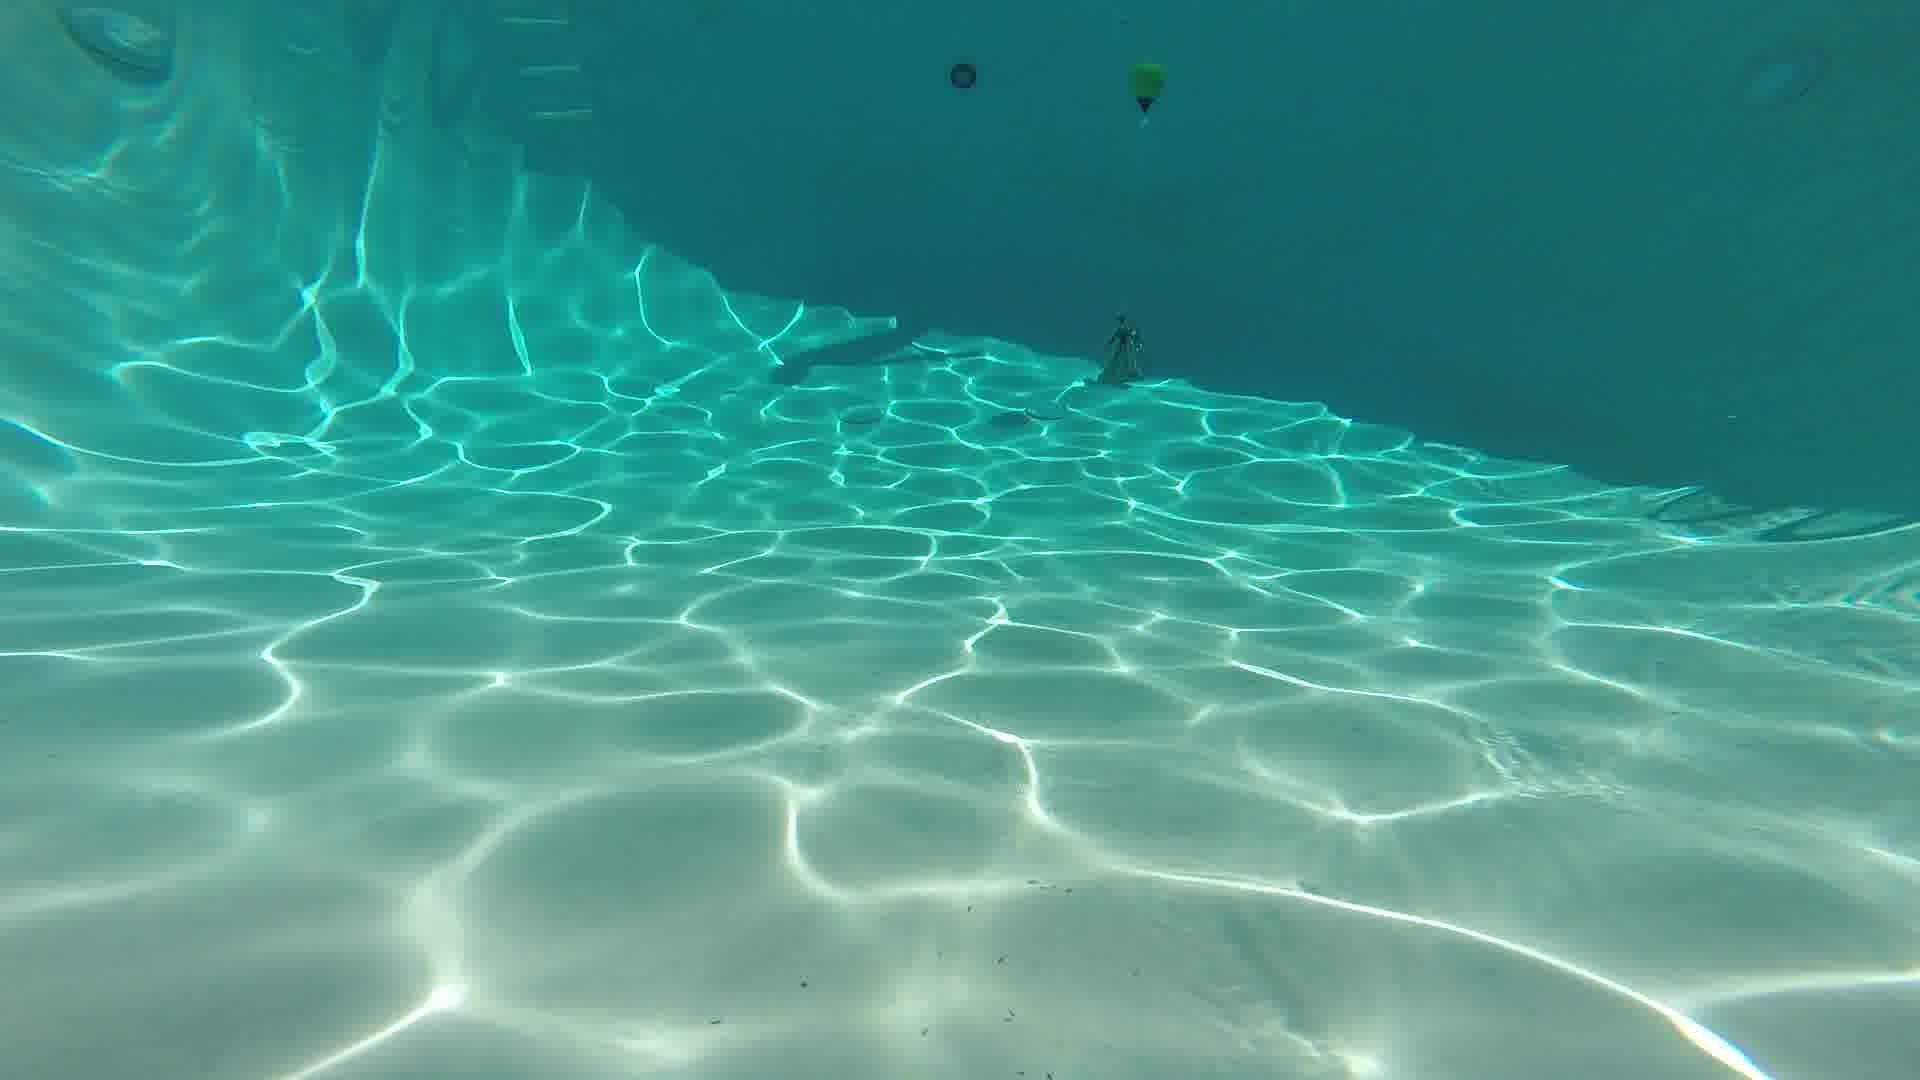yellow buoy: (1126, 55, 1174, 121)
